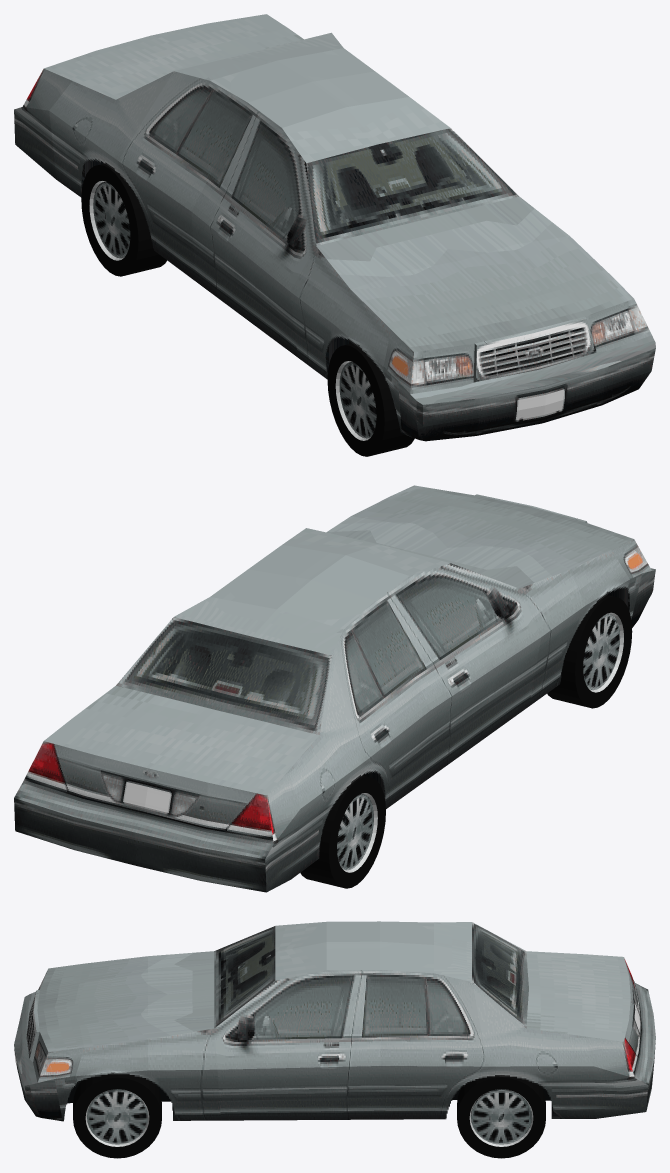
File: ford.glb
The picture shows the model from 3 angles, top to bottom: view 1: azimuth 30°, elevation 25°; view 2: azimuth 150°, elevation 25°; view 3: azimuth 270°, elevation 25°; orthographic projection. The views are drawn at different scales.
Parts seen in each view (by area): view 1: Ford Crown body_4, FRWheel_1, RRWheel_3; view 2: Ford Crown body_4, FRWheel_1, RRWheel_3; view 3: Ford Crown body_4, FLWheel_0, RLWheel_2.
Boxes of the visible parts, bbox=[...] form: Ford Crown body_4: bbox=[14, 14, 655, 441]; FRWheel_1: bbox=[327, 343, 414, 456]; RRWheel_3: bbox=[81, 163, 166, 276]; Ford Crown body_4: bbox=[14, 485, 655, 892]; FRWheel_1: bbox=[547, 594, 632, 708]; RRWheel_3: bbox=[300, 775, 385, 888]; Ford Crown body_4: bbox=[14, 921, 655, 1121]; FLWheel_0: bbox=[73, 1072, 161, 1158]; RLWheel_2: bbox=[457, 1075, 545, 1158].
Bounding box in the file's own units: 1.77 × 1.47 × 5.03.
2 materials, 1 textured.
